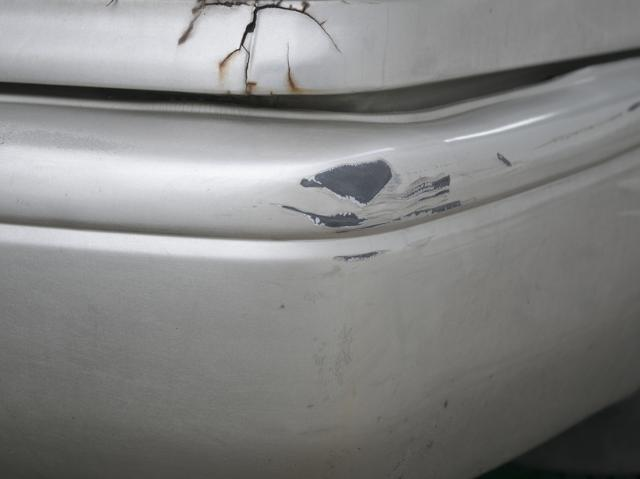Bumper: (166, 0, 640, 294)
